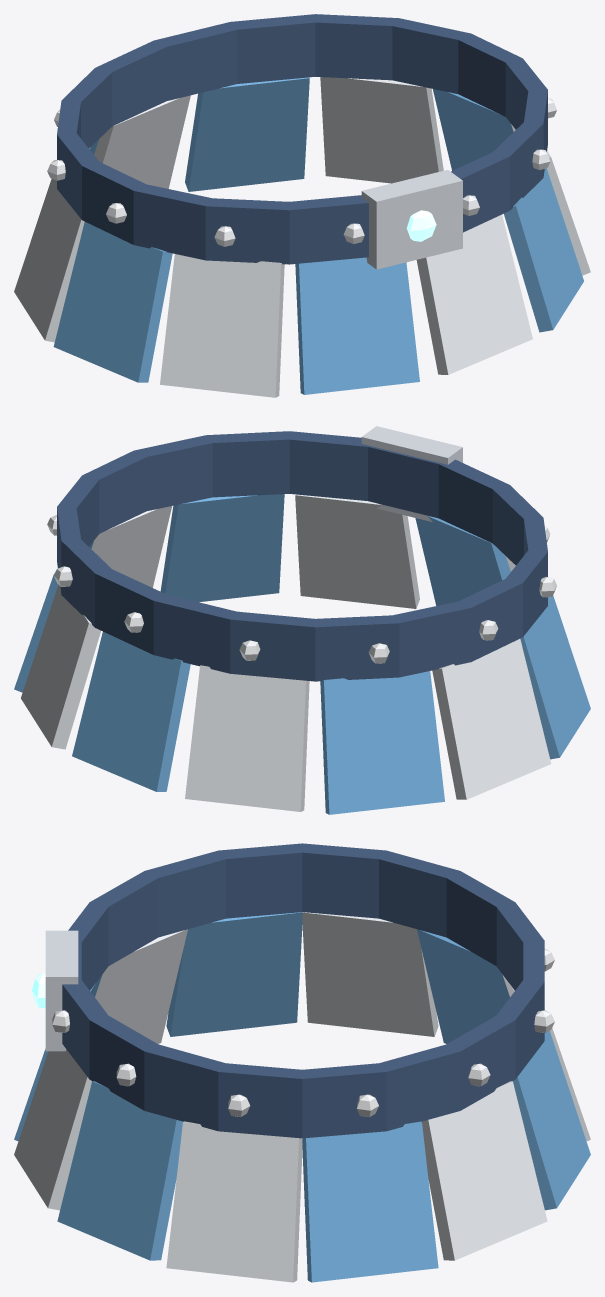
The model's file is cloud_giant_belt.glb.
3 views of the same model, one above another, from view 1: azimuth 30°, elevation 25°; view 2: azimuth 150°, elevation 25°; view 3: azimuth 270°, elevation 25° (orthographic). The views are drawn at different scales.
Visible parts, largest first — view 1: cloud_giant_belt; view 2: cloud_giant_belt; view 3: cloud_giant_belt.
Part boxes in pixels (bbox=[...]): cloud_giant_belt: bbox=[14, 14, 590, 397]; cloud_giant_belt: bbox=[14, 426, 590, 814]; cloud_giant_belt: bbox=[14, 843, 590, 1282].
Size of the model in its own units: 1.17 by 0.3994 by 1.06.
